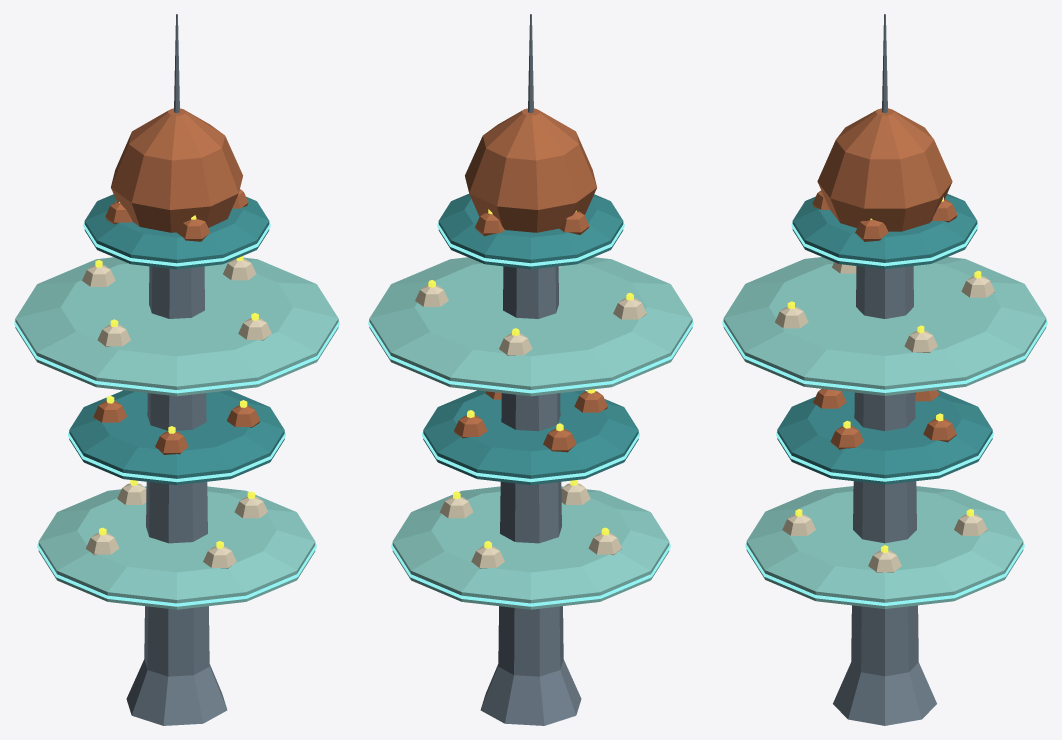
File: City_TowerDiscs.fbx
3 renders of one model, left to right at view 1: azimuth 30°, elevation 25°; view 2: azimuth 150°, elevation 25°; view 3: azimuth 270°, elevation 25°, orthographic.
Parts seen in each view (by area): view 1: City_TowerDiscs; view 2: City_TowerDiscs; view 3: City_TowerDiscs.
Part boxes in pixels (left/top/right/bottom): City_TowerDiscs: left=14, top=14, right=339, bottom=725; City_TowerDiscs: left=368, top=14, right=693, bottom=725; City_TowerDiscs: left=722, top=14, right=1047, bottom=725.
Size of the model in its own units: 21.16 by 21.16 by 49.5.
